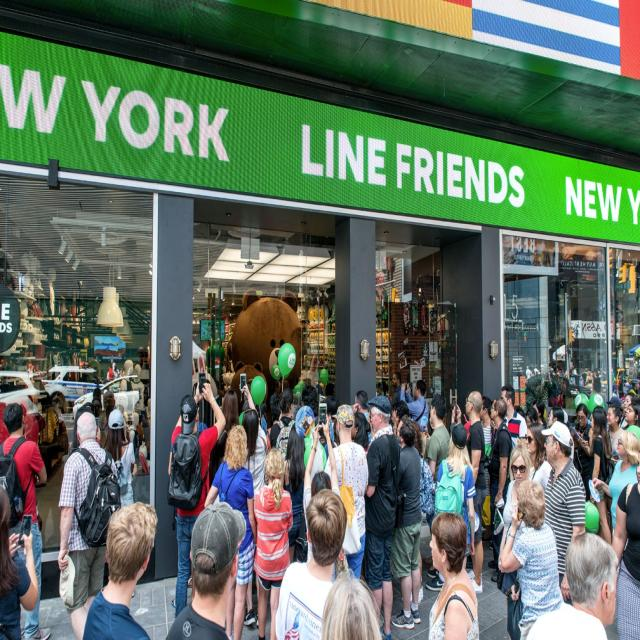body: (0, 352, 152, 529), (55, 408, 124, 640), (167, 380, 227, 621), (0, 399, 54, 639), (514, 525, 625, 639), (163, 498, 251, 640), (203, 425, 257, 640), (275, 487, 348, 639), (82, 500, 159, 640), (500, 478, 565, 640), (165, 390, 214, 592), (540, 418, 588, 607), (365, 394, 400, 640), (302, 412, 351, 586), (250, 365, 342, 457), (388, 413, 426, 632), (323, 403, 369, 580), (425, 506, 482, 640), (590, 429, 640, 580), (239, 378, 269, 629), (254, 447, 293, 640), (0, 477, 41, 640), (433, 421, 476, 572), (514, 357, 640, 406), (495, 441, 533, 603), (401, 418, 434, 604), (483, 395, 515, 585), (610, 448, 640, 640), (424, 391, 451, 593), (320, 569, 392, 640), (503, 235, 607, 283), (462, 389, 486, 595), (280, 421, 306, 566), (589, 408, 613, 548), (103, 408, 136, 508), (208, 388, 240, 491), (488, 382, 528, 458), (478, 394, 496, 544), (571, 402, 595, 502), (524, 421, 554, 494), (435, 318, 459, 403), (398, 379, 429, 433), (604, 402, 628, 466), (442, 398, 471, 434), (354, 389, 372, 446), (350, 410, 371, 458), (391, 400, 411, 450), (592, 389, 624, 413), (622, 402, 640, 441), (619, 391, 636, 431), (552, 404, 572, 438), (391, 371, 407, 407), (512, 400, 532, 426), (532, 398, 547, 430), (546, 405, 566, 428), (577, 435, 595, 457), (388, 401, 401, 426), (524, 406, 538, 429), (427, 406, 436, 436), (376, 378, 388, 397), (489, 397, 496, 404)
